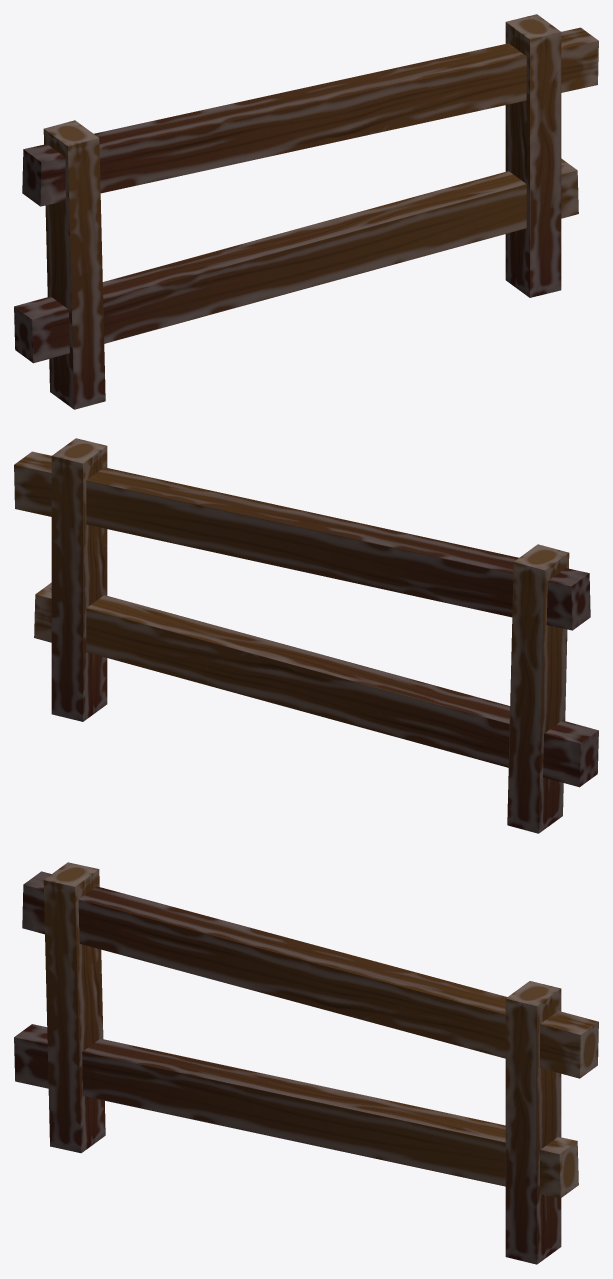
Rendered from fence_stylized.glb.
3 views of the same model, one above another, from view 1: azimuth 30°, elevation 25°; view 2: azimuth 150°, elevation 25°; view 3: azimuth 330°, elevation 25° (orthographic).
Parts seen in each view (by area): view 1: door_balk_low.004; view 2: door_balk_low.004; view 3: door_balk_low.004.
Part boxes in pixels (box(x1,y1,x2,y2)): door_balk_low.004: box(14, 14, 598, 409); door_balk_low.004: box(14, 438, 598, 833); door_balk_low.004: box(14, 862, 598, 1264).
Size of the model in its own units: 2.7 by 1.21 by 0.2.
1 material, 1 textured.
